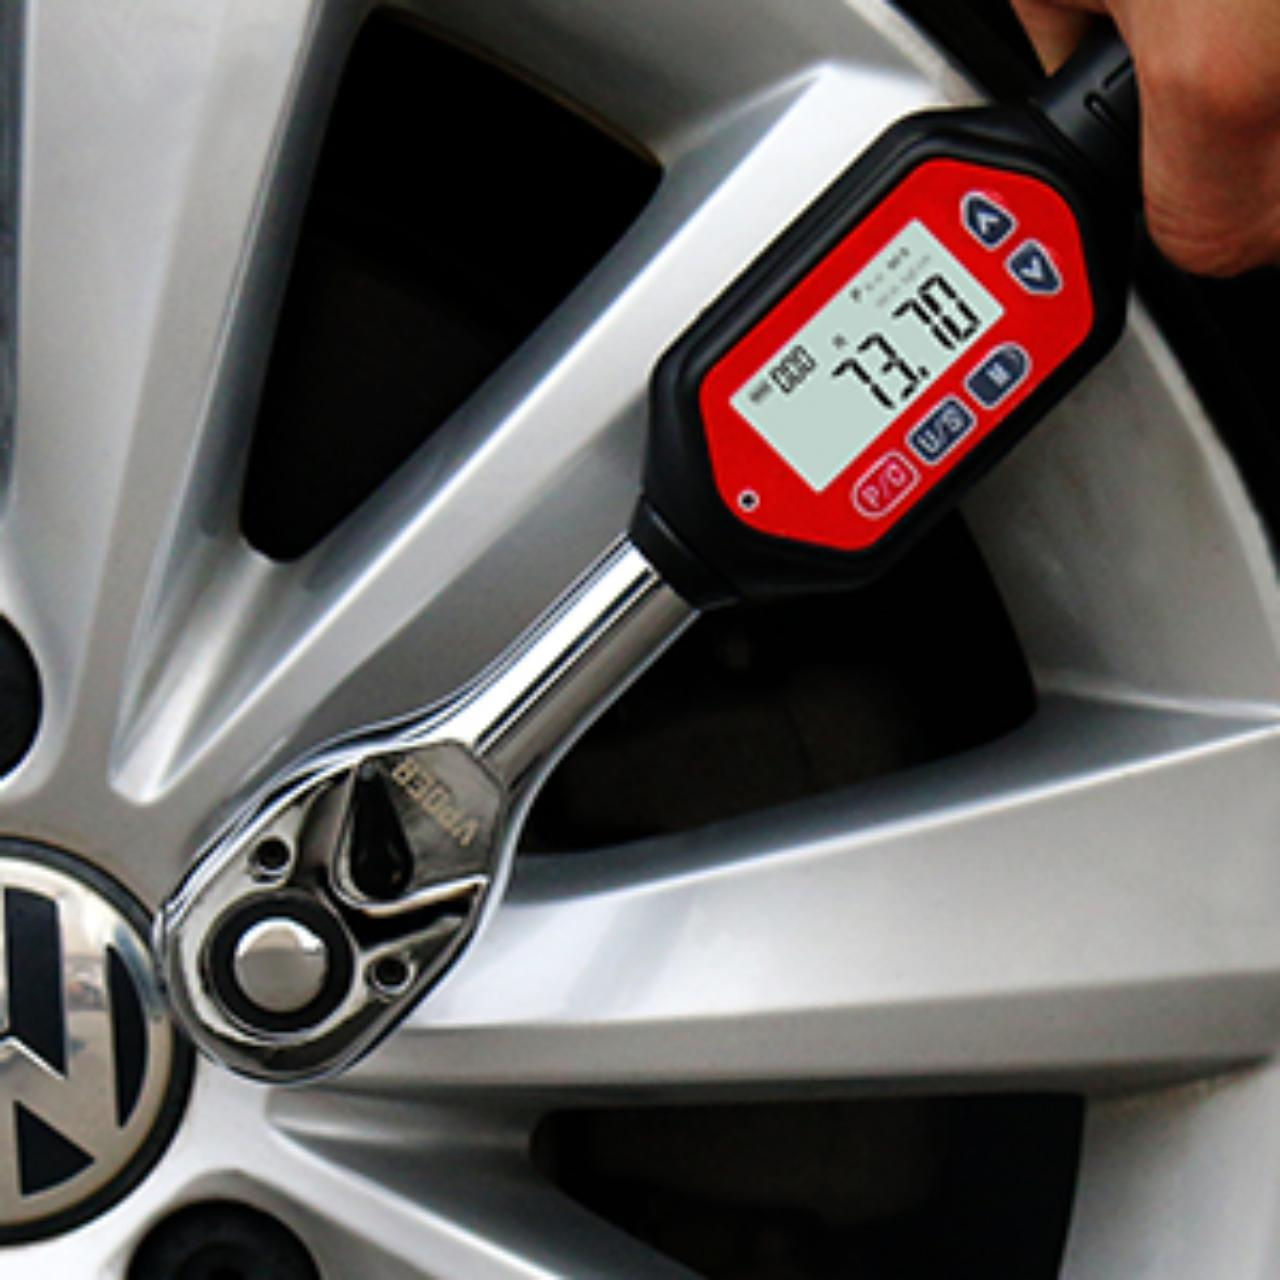Tool: (163, 723, 506, 1117)
